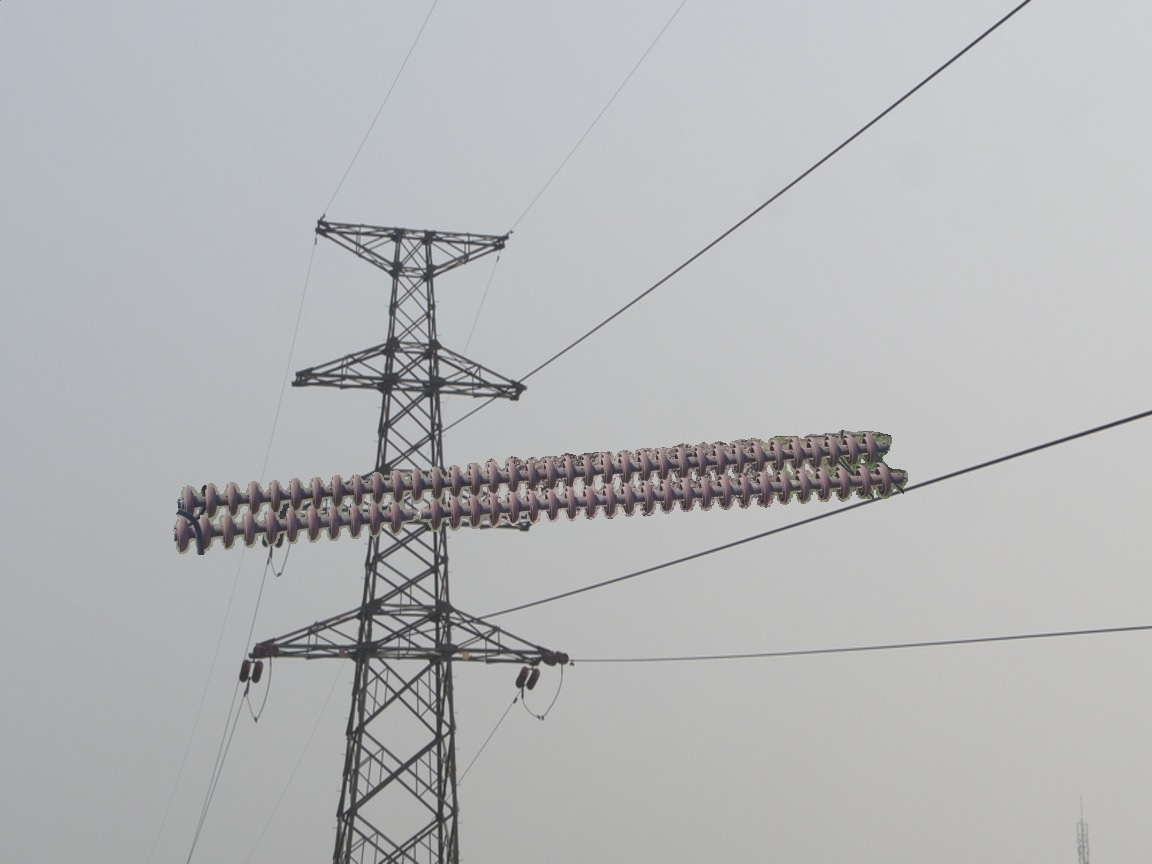defect: (380, 496, 448, 532)
